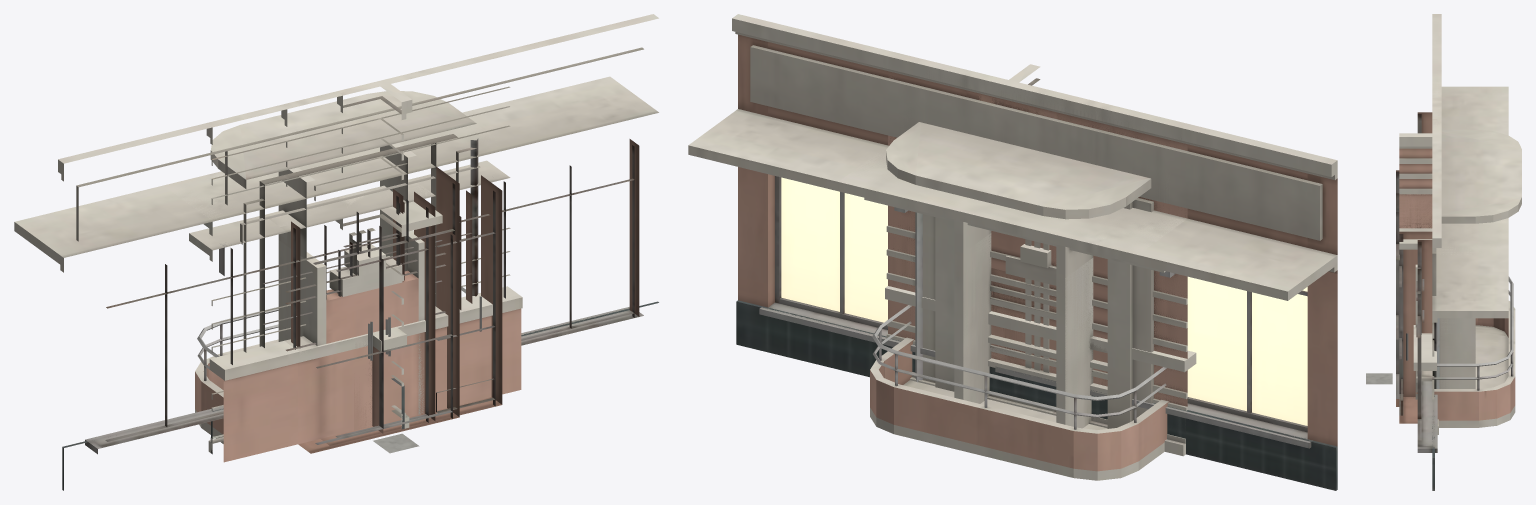
The model's file is kit_deco_resort.glb.
3 views of the same model, side by side, from view 1: azimuth 30°, elevation 25°; view 2: azimuth 150°, elevation 25°; view 3: azimuth 270°, elevation 25° (orthographic). The views are drawn at different scales.
Parts seen in each view (by area): view 1: ground_shop_wide_8_a_lod0, ground_entrance_4_a_lod0, top_parapet_2_a_lod0, top_parapet_4_a_lod0, ground_shop_4_a_lod0, ground_wall_4_a_lod0, ground_wall_2_a_lod0, ground_garage_4_a_lod0, upper_window_2_a_lod0, upper_balcony_4_a_lod0, corner_top_a_lod0, corner_upper_a_lod0 (+3 smaller); view 2: ground_shop_wide_8_a_lod0, ground_entrance_4_a_lod0, upper_balcony_4_a_lod0, ground_shop_4_a_lod0, top_parapet_2_a_lod0, upper_blank_4_a_lod0, upper_window_2_a_lod0, top_parapet_4_a_lod0, ground_wall_4_a_lod0, upper_window_4_b_lod0, ground_garage_4_a_lod0, corner_ground_a_lod0 (+2 smaller); view 3: ground_shop_wide_8_a_lod0, ground_entrance_4_a_lod0, upper_balcony_4_a_lod0, ground_shop_4_a_lod0, corner_ground_a_lod0, upper_window_2_a_lod0, top_parapet_2_a_lod0, corner_upper_a_lod0, top_parapet_4_a_lod0, upper_blank_4_a_lod0, tile_swatch, upper_window_4_b_lod0.
Boxes of the visible parts, x1,y1,x2,y2 form: ground_shop_wide_8_a_lod0: [14, 14, 658, 490]; ground_entrance_4_a_lod0: [206, 50, 509, 454]; top_parapet_2_a_lod0: [278, 219, 447, 444]; top_parapet_4_a_lod0: [208, 286, 522, 462]; ground_shop_4_a_lod0: [163, 84, 502, 422]; ground_wall_4_a_lod0: [189, 160, 510, 410]; ground_wall_2_a_lod0: [265, 69, 435, 274]; ground_garage_4_a_lod0: [211, 86, 510, 411]; upper_window_2_a_lod0: [270, 143, 422, 341]; upper_balcony_4_a_lod0: [195, 242, 465, 443]; corner_top_a_lod0: [354, 327, 409, 433]; corner_upper_a_lod0: [334, 190, 442, 327]; ground_shop_wide_8_a_lod0: [688, 14, 1337, 490]; ground_entrance_4_a_lod0: [882, 51, 1187, 432]; upper_balcony_4_a_lod0: [870, 207, 1187, 480]; ground_shop_4_a_lod0: [838, 82, 1187, 437]; top_parapet_2_a_lod0: [954, 233, 1107, 428]; upper_blank_4_a_lod0: [886, 138, 1187, 405]; upper_window_2_a_lod0: [939, 216, 1093, 427]; top_parapet_4_a_lod0: [885, 286, 1196, 456]; ground_wall_4_a_lod0: [864, 93, 1187, 437]; upper_window_4_b_lod0: [888, 222, 1187, 395]; ground_garage_4_a_lod0: [886, 96, 1187, 438]; corner_ground_a_lod0: [1003, 64, 1056, 406]; ground_shop_wide_8_a_lod0: [1417, 14, 1508, 490]; ground_entrance_4_a_lod0: [1396, 70, 1521, 406]; upper_balcony_4_a_lod0: [1416, 276, 1515, 427]; ground_shop_4_a_lod0: [1399, 218, 1508, 423]; corner_ground_a_lod0: [1399, 119, 1441, 228]; upper_window_2_a_lod0: [1440, 318, 1475, 388]; top_parapet_2_a_lod0: [1413, 264, 1475, 399]; corner_upper_a_lod0: [1399, 194, 1432, 249]; top_parapet_4_a_lod0: [1413, 325, 1438, 434]; upper_blank_4_a_lod0: [1432, 318, 1439, 388]; tile_swatch: [1366, 373, 1392, 384]; upper_window_4_b_lod0: [1416, 292, 1432, 382].
Size of what is drawn, in the model's own units: 8 by 4.2 by 2.35.
Materials: 8 (8 with a texture image).
